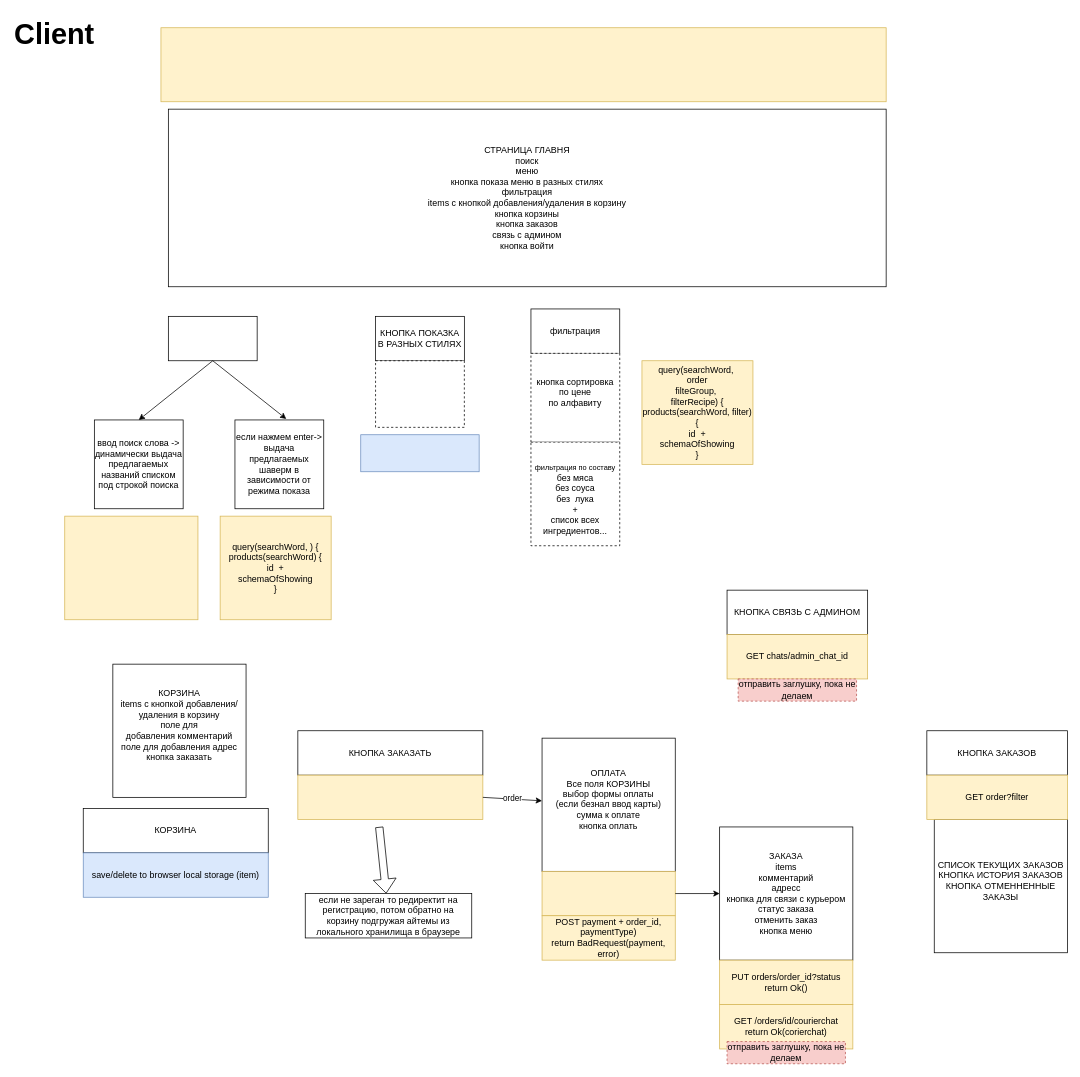
Some shapes in this 1080 by 1077 pixel diagram are drawn without their labels. Each missing label, with the centre of its shape:
changeSchemaOfShowing: point 419,453
GET /payment(jwtToken. items_id, prices, comment. address) return payment: point 390,797
POST payment/order_id + paymentType return Ok(order): point 608,893
query("", "", "", "") products( schemaOfShowing ): point 523,64
query(searchWord,"", "", "") { product( searchWord ) { id name }: point 131,567
ПОИСК: point 212,338
только название только название + картинка картинка название состав цена: point 419,393
